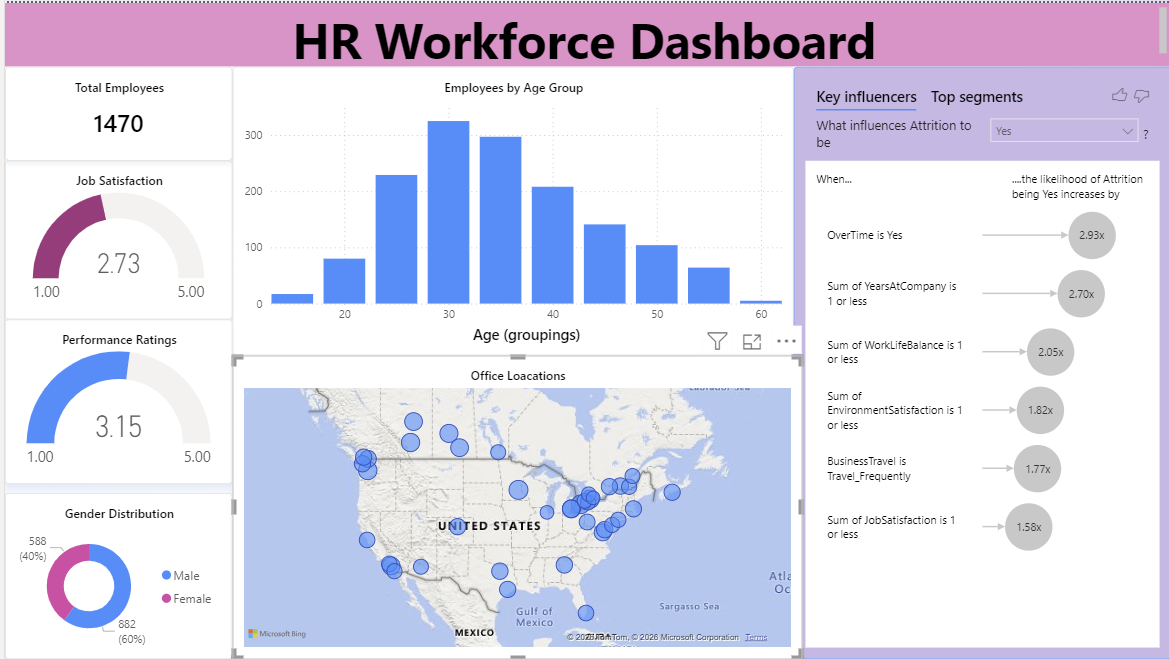

What the dashboard file says about the page in this screenshot:
{"tool":"powerbi","page":{"name":"Page 1","canvas":[1280,720],"ordinal":0},"visuals":[{"type":"donutChart","title":"Gender Distribution","fields":{"Category":["HRIS.Gender"],"Y":["CountNonNull(HRIS.EmployeeNumber)"]},"box":[0,537.9,249.7,182.5],"z":2000},{"type":"columnChart","title":"Employees by Age Group","fields":{"Category":["HRIS.Age (bins)"],"Y":["CountNonNull(HRIS.EmployeeNumber)"]},"box":[249.7,70,616.1,317],"z":3000},{"type":"map","title":"Office Loacations","fields":{"Y":["GEO DATA.Lattitude"],"X":["GEO DATA.Longitude"],"Size":["CountNonNull(HRIS.EmployeeNumber)"]},"box":[249.7,387,625.7,333.4],"z":4000},{"type":"textbox","box":[0,0,1280.3,70],"z":5000},{"type":"keyDriversVisual","fields":{"Target":["HRIS.Attrition"],"ExplainBy":["Sum(HRIS.YearsAtCompany)","Sum(HRIS.StockOptionLevel)","Sum(HRIS.PerformanceRating)","HRIS.OverTime","HRIS.BusinessTravel","Sum(Engagement Survey.JobSatisfaction)","Sum(Engagement Survey.EnvironmentSatisfaction)","Sum(Engagement Survey.WorkLifeBalance)"]},"box":[865.9,70,414.4,650.4],"z":7000},{"type":"gauge","title":"Job Satisfaction","fields":{"Y":["Avg(Engagement Survey.JobSatisfaction)"]},"box":[0,172.9,249.7,174.3],"z":7001},{"type":"gauge","title":"Performance Ratings","fields":{"Y":["Avg(HRIS.PerformanceRating)"]},"box":[0,347.2,249.7,181.1],"z":7002},{"type":"card","title":"Total Employees","fields":{"Values":["Count(HRIS.EmployeeNumber)"]},"box":[0,70,249.7,102.9],"z":7003}]}

Visuals, with their boxes in screenshot pixels (x1, y1, x2, y2), scaled from the page's 1280x720 canvas onto the 1169x659 screenshot:
"Gender Distribution" donutChart: left=0, top=492, right=228, bottom=658
"Employees by Age Group" columnChart: left=228, top=64, right=791, bottom=354
"Office Loacations" map: left=228, top=354, right=799, bottom=658
textbox: left=0, top=0, right=1168, bottom=64
keyDriversVisual - HRIS.Attrition x Sum(HRIS.YearsAtCompany): left=791, top=64, right=1168, bottom=658
"Job Satisfaction" gauge: left=0, top=158, right=228, bottom=318
"Performance Ratings" gauge: left=0, top=318, right=228, bottom=484
"Total Employees" card: left=0, top=64, right=228, bottom=158
